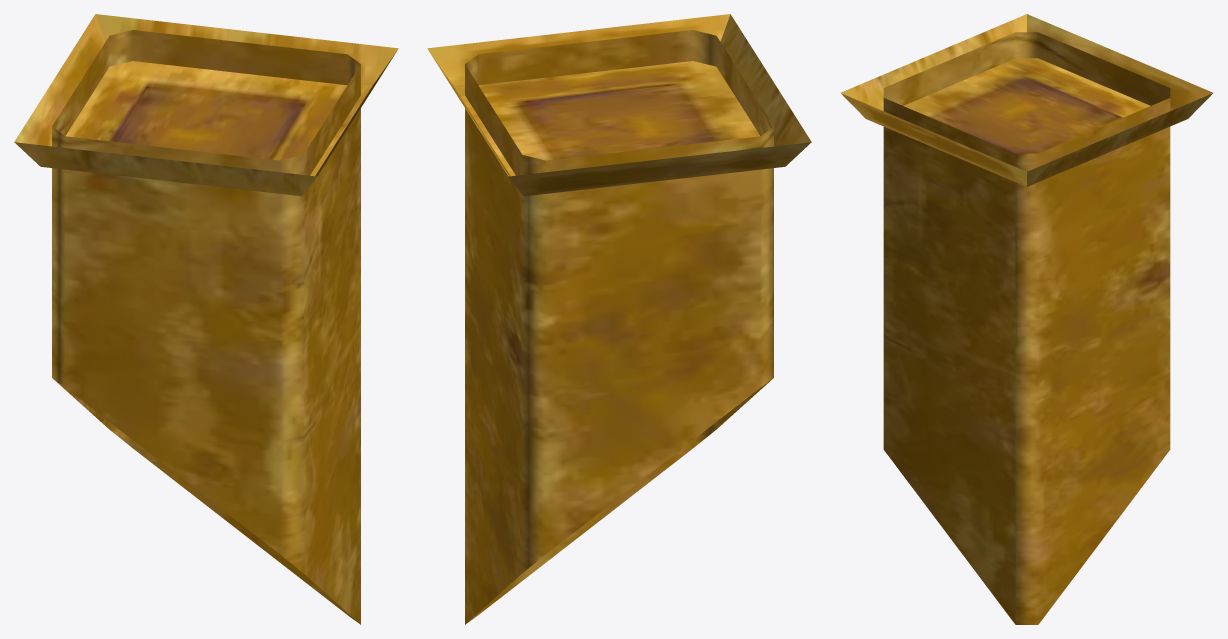
The picture shows the model from 3 angles, left to right: view 1: azimuth 30°, elevation 25°; view 2: azimuth 150°, elevation 25°; view 3: azimuth 270°, elevation 25°; orthographic projection. The views are drawn at different scales.
Visible parts, largest first — view 1: SM_Dragonkin_Pipe_Small_Cap_01_v1_LOD0; view 2: SM_Dragonkin_Pipe_Small_Cap_01_v1_LOD0; view 3: SM_Dragonkin_Pipe_Small_Cap_01_v1_LOD0.
Boxes of the visible parts, x1,y1,x2,y2 form: SM_Dragonkin_Pipe_Small_Cap_01_v1_LOD0: [14, 14, 398, 624]; SM_Dragonkin_Pipe_Small_Cap_01_v1_LOD0: [427, 14, 811, 624]; SM_Dragonkin_Pipe_Small_Cap_01_v1_LOD0: [840, 14, 1213, 624].
Size of the model in its own units: 0.597 by 0.8316 by 0.597.
1 material, 1 textured.
